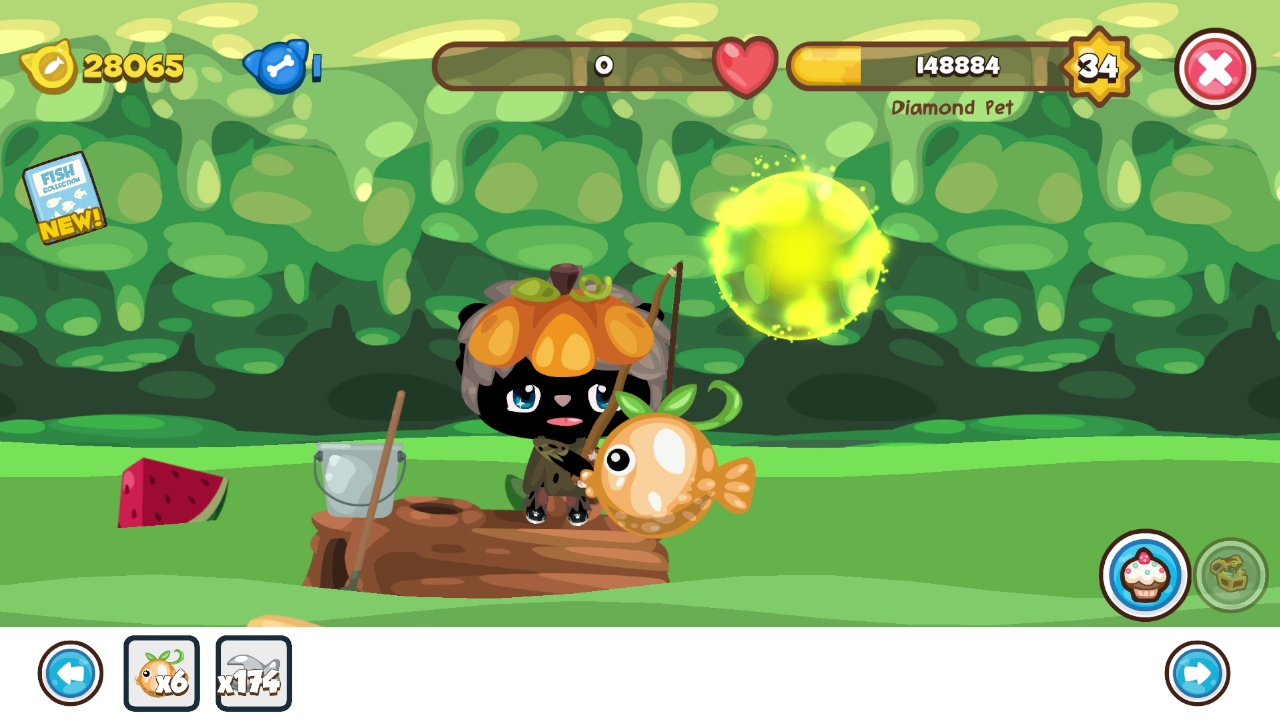point: (712, 169, 889, 342)
